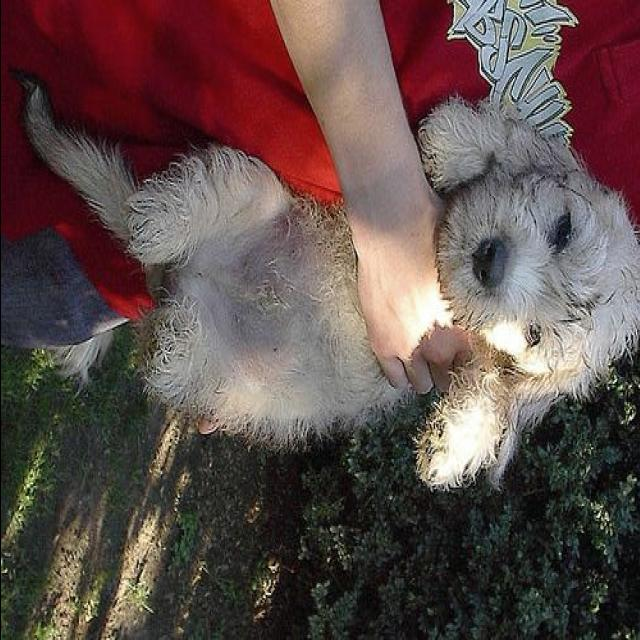dandie_dinmont: (19, 75, 640, 492)
